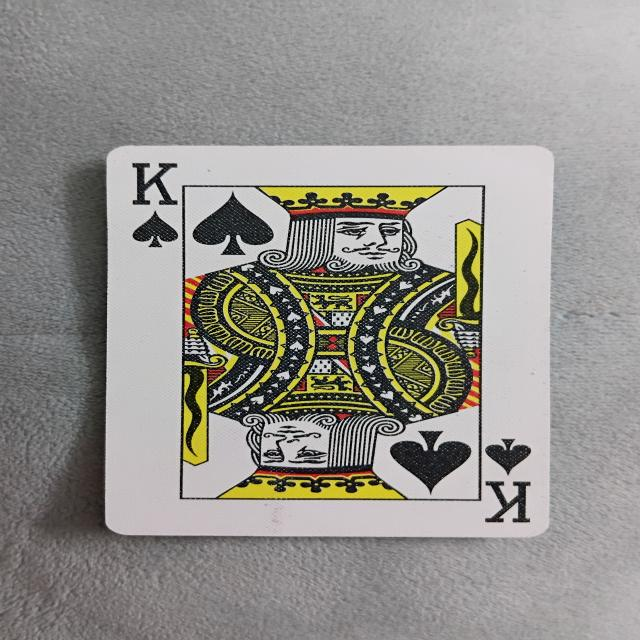KS: (98, 141, 557, 541)
